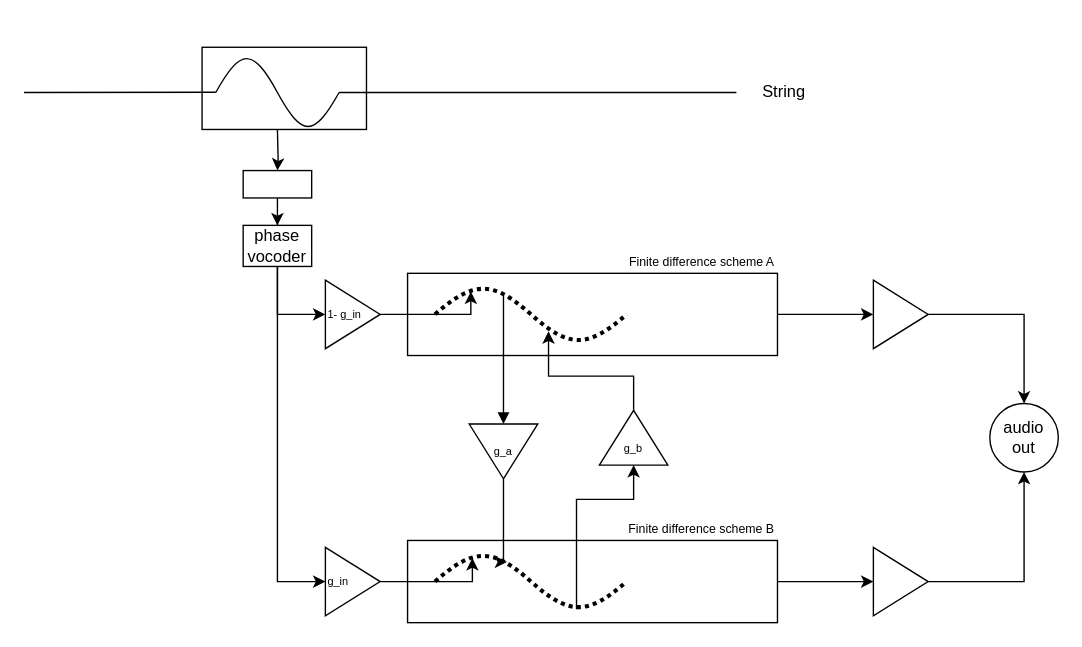
Image size: 1082x647. Some labels were removed from this diagram. The shapes that lost their labels are listed below. From the top down, each one's box as (x1, y1, x2, y2) in pixels, then its label:
(201, 46, 366, 129): sense vibrations
(242, 169, 312, 198): Yin
(872, 279, 928, 349): 1- g_out
(872, 546, 928, 616): g_out
